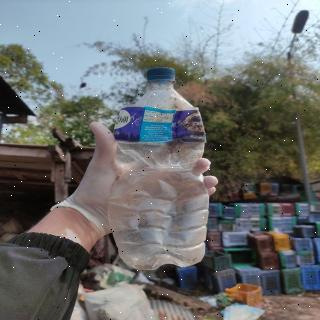Plastic-bottle: (104, 65, 214, 275)
